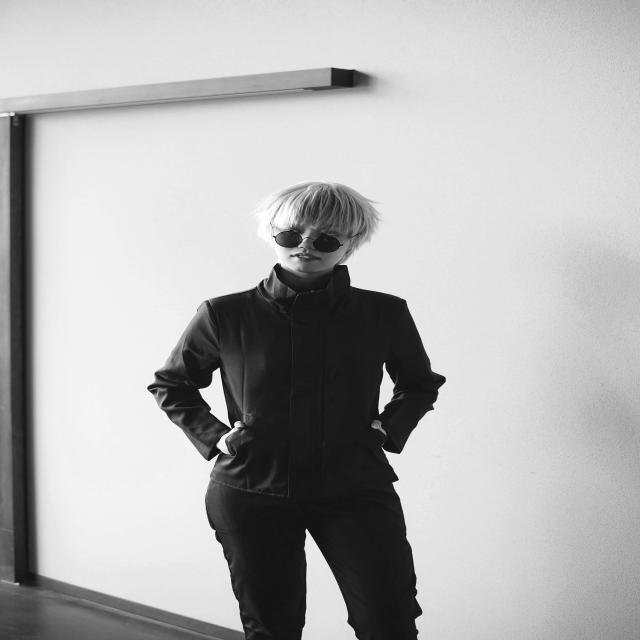stand: (215, 175, 418, 640)
